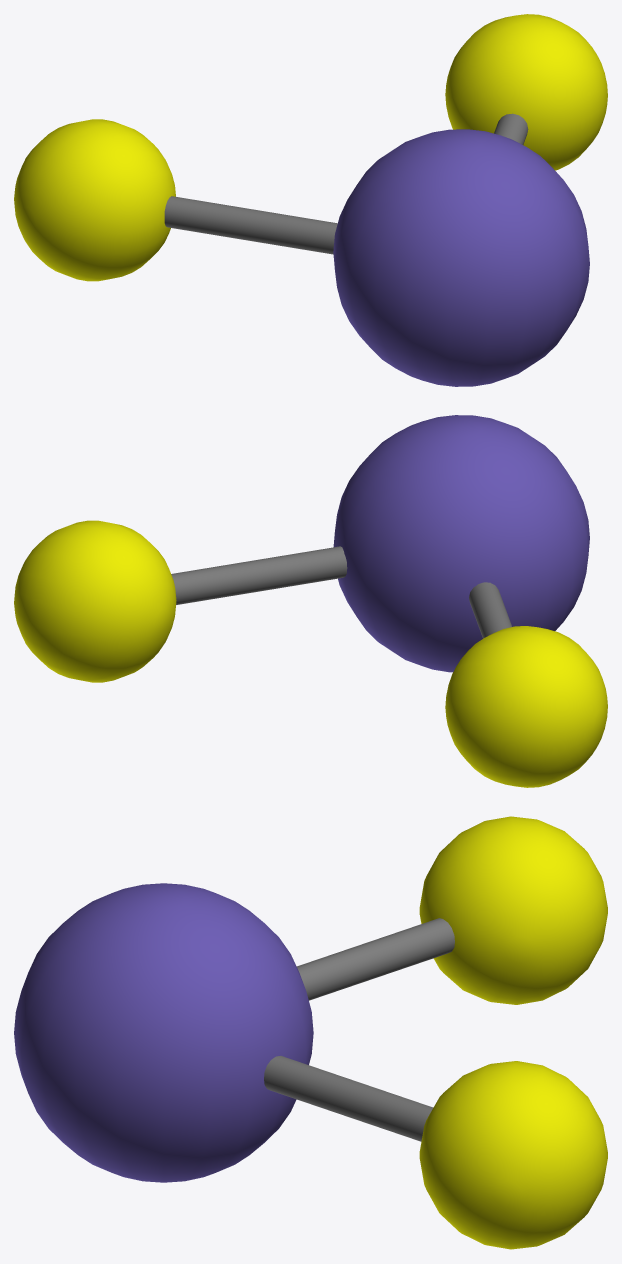
The model's file is MgH2.fbx.
3 renders of one model, top to bottom at view 1: azimuth 30°, elevation 25°; view 2: azimuth 150°, elevation 25°; view 3: azimuth 270°, elevation 25°, orthographic. The views are drawn at different scales.
Visible parts, largest first — view 1: MgH2; view 2: MgH2; view 3: MgH2.
Part boxes in pixels (bbox=[...]): MgH2: bbox=[14, 14, 607, 386]; MgH2: bbox=[14, 415, 607, 787]; MgH2: bbox=[14, 816, 607, 1249].
Size of the model in its own units: 6.77 by 2.65 by 5.25.
